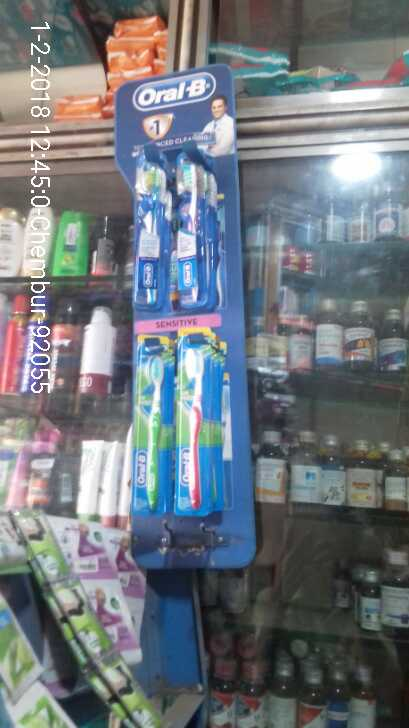oralb: (178, 341, 228, 518), (166, 162, 223, 311), (136, 350, 168, 515), (129, 163, 164, 307)
